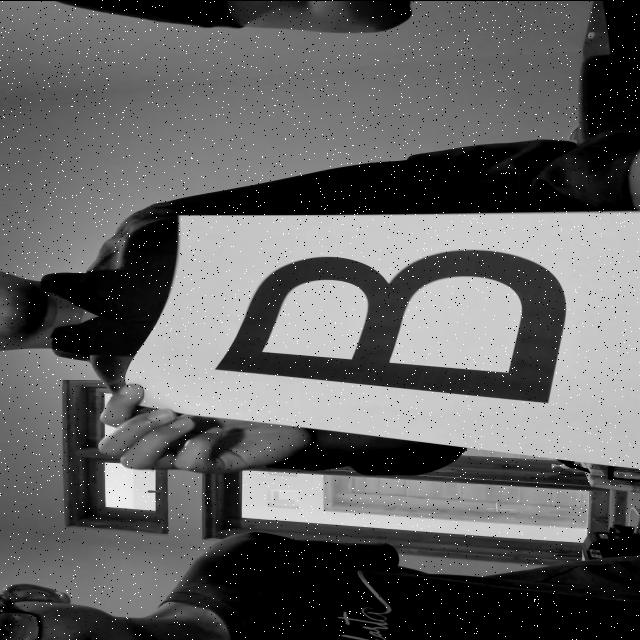b: (187, 237, 613, 406)
